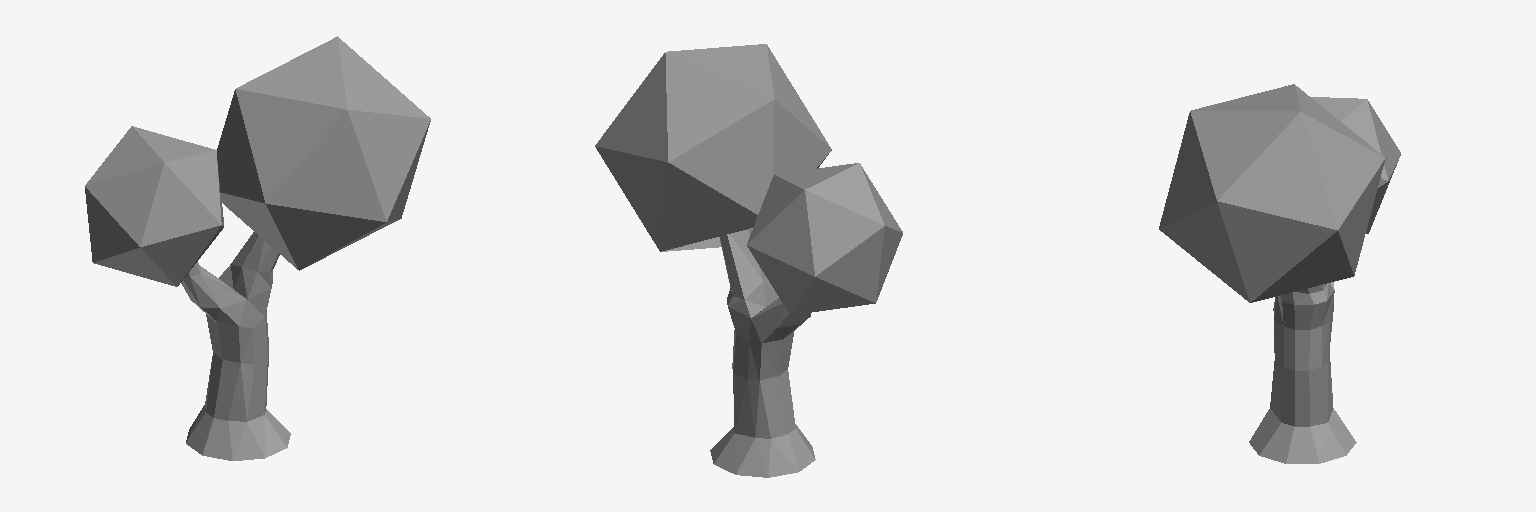
Rendered from bigTree.obj.
The picture shows the model from 3 angles: view 1: azimuth 30°, elevation 25°; view 2: azimuth 150°, elevation 25°; view 3: azimuth 270°, elevation 25°; orthographic projection.
Visible parts, largest first — view 1: Icosphere.001, Icosphere, Cylinder; view 2: Icosphere.001, Icosphere, Cylinder; view 3: Icosphere.001, Cylinder, Icosphere.
Boxes of the visible parts, <box> form: Icosphere.001: <box>217,36,430,270</box>; Icosphere: <box>85,126,223,286</box>; Cylinder: <box>181,232,290,460</box>; Icosphere.001: <box>595,44,831,251</box>; Icosphere: <box>747,163,902,314</box>; Cylinder: <box>710,228,815,477</box>; Icosphere.001: <box>1159,84,1385,302</box>; Cylinder: <box>1249,282,1356,463</box>; Icosphere: <box>1311,97,1400,233</box>.
Bounding box in the file's own units: 16.43 × 20.63 × 11.98.